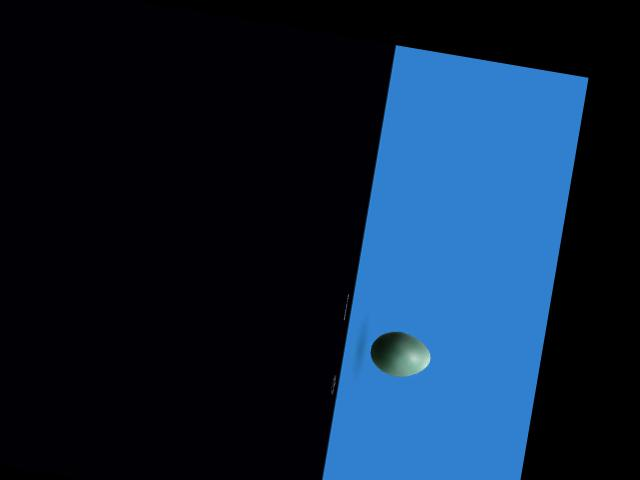egg: (367, 327, 434, 380)
